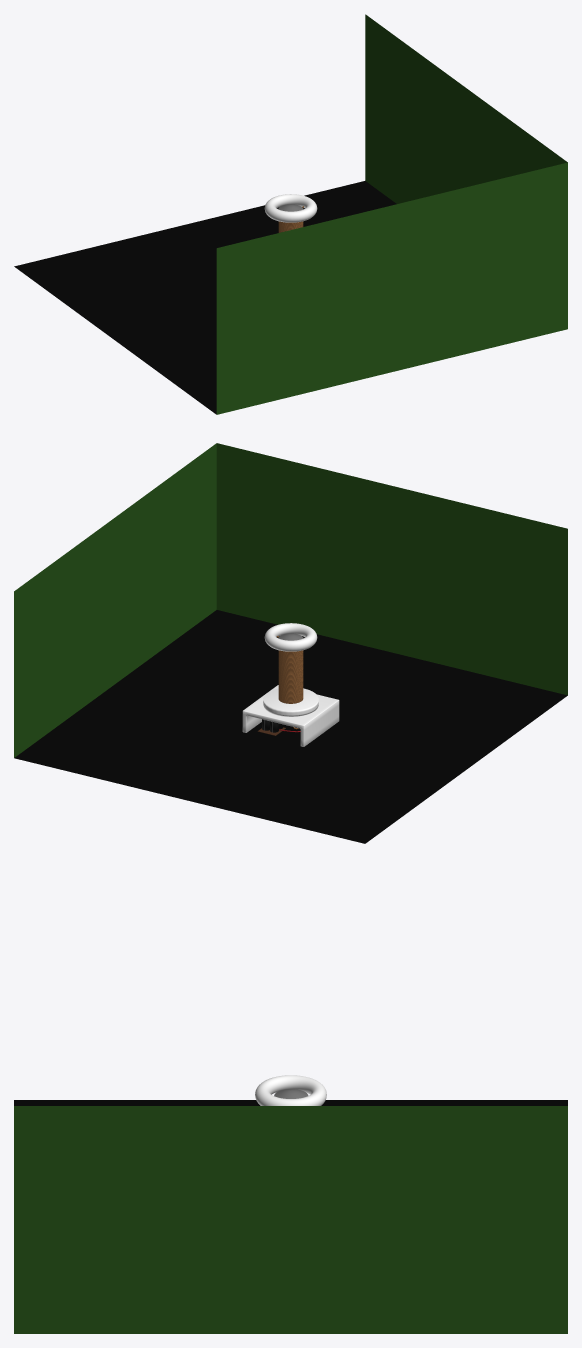
Rendered from geft.glb.
3 views of the same model, one above another, from view 1: azimuth 30°, elevation 25°; view 2: azimuth 150°, elevation 25°; view 3: azimuth 270°, elevation 25° (orthographic). The views are drawn at different scales.
Visible parts, largest first — view 1: Plane, Torus.001; view 2: Plane, stand, secondary coil, Torus.001, cover; view 3: Plane, Torus.001.
Boxes of the visible parts, box(x1,y1,x2,y2) form: Plane: box(14, 14, 567, 414); Torus.001: box(264, 194, 317, 222); Plane: box(14, 443, 567, 843); stand: box(242, 685, 339, 746); secondary coil: box(277, 636, 303, 729); Torus.001: box(264, 623, 317, 651); cover: box(263, 688, 318, 716); Plane: box(14, 1100, 567, 1333); Torus.001: box(255, 1075, 326, 1105).
Size of the model in its own units: 38.89 by 17.71 by 38.89.
